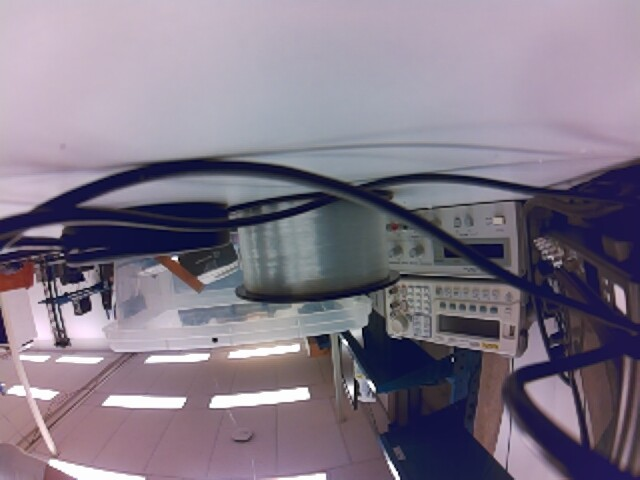mosquito: (211, 336, 219, 344)
